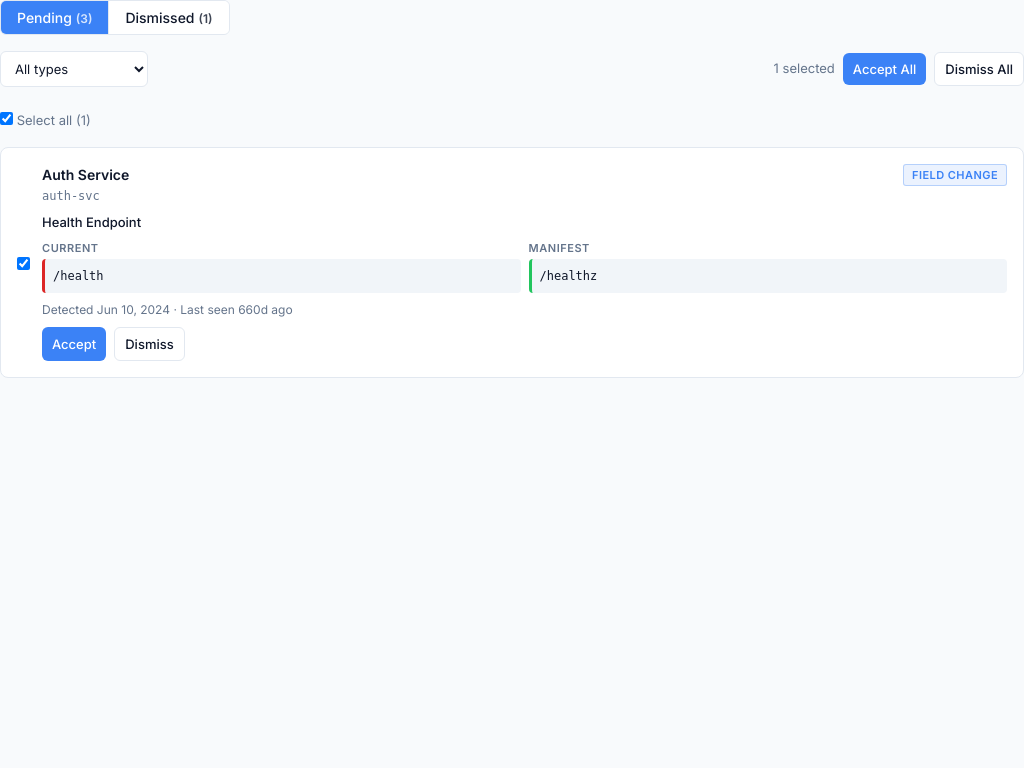
Scenario: DriftReview › cancels bulk action dialog
The image size is (1024, 768).
Click the button "Accept All": (885, 69) 843,53 -> 926,85
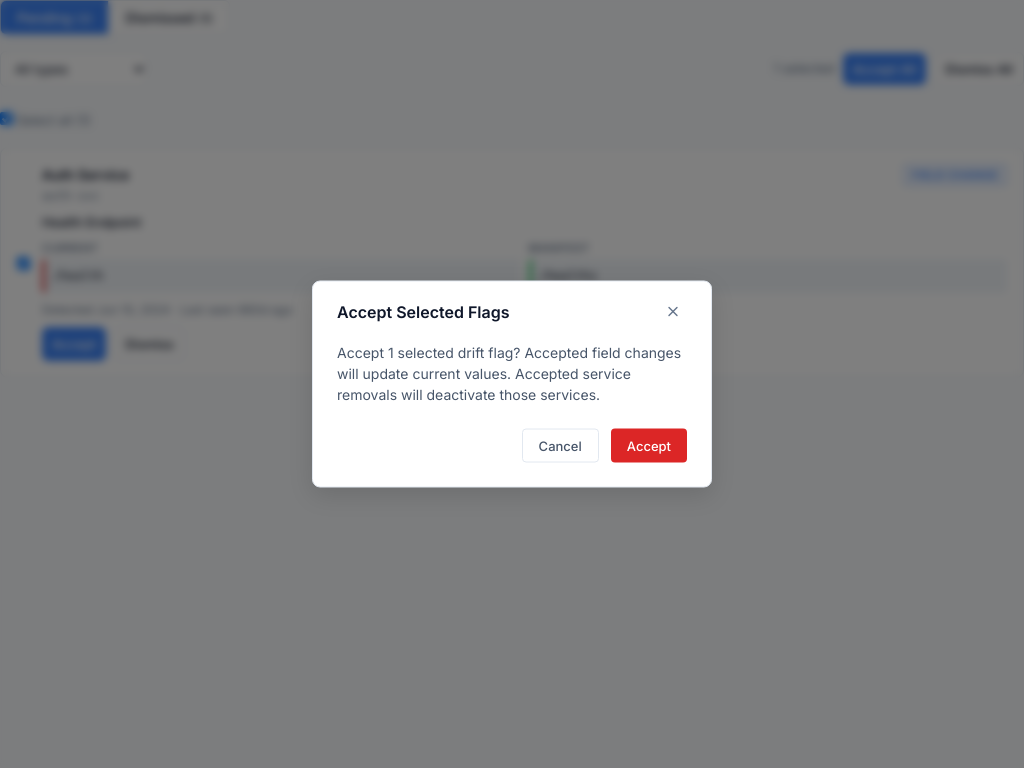
Expected: the heading "Accept Selected Flags" is shown, 337,302 -> 510,322
Click the button "Cancel": (560, 446) 522,428 -> 599,462
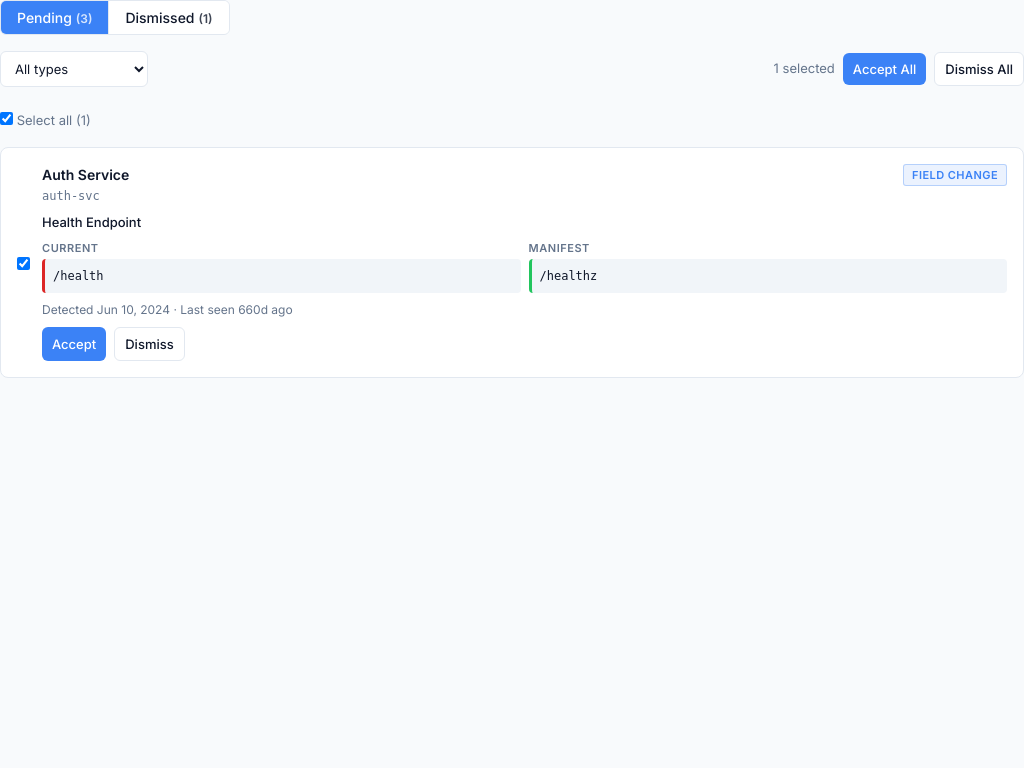
Expected: the heading "Accept Selected Flags" is gone
